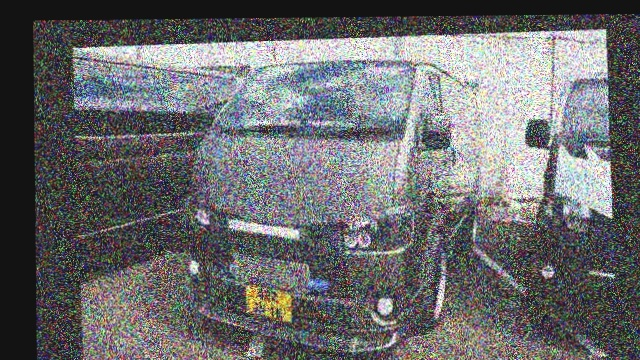van: (182, 53, 493, 359)
